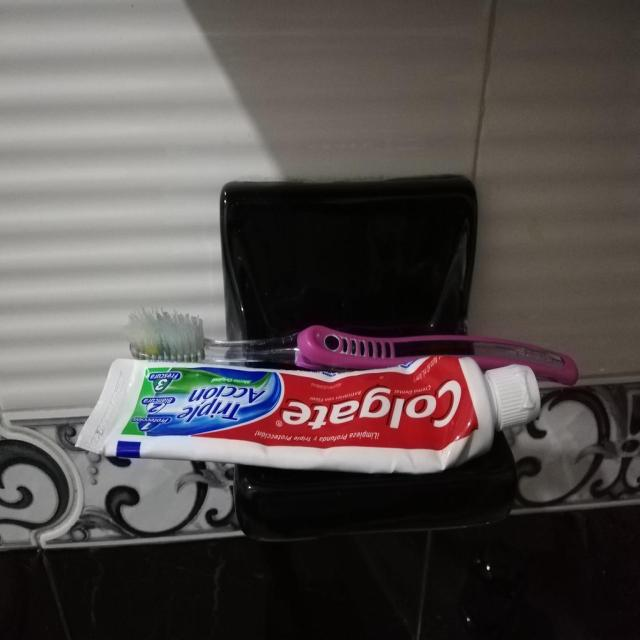Toothpaste: (75, 356, 542, 477)
